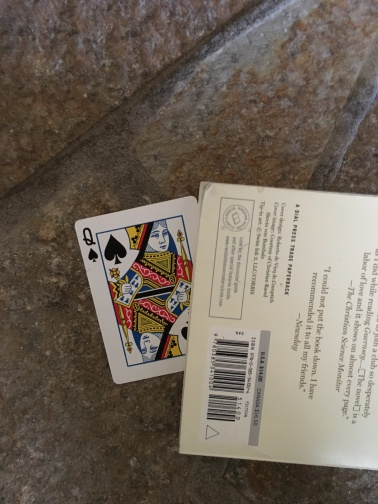queen: (74, 195, 201, 386)
